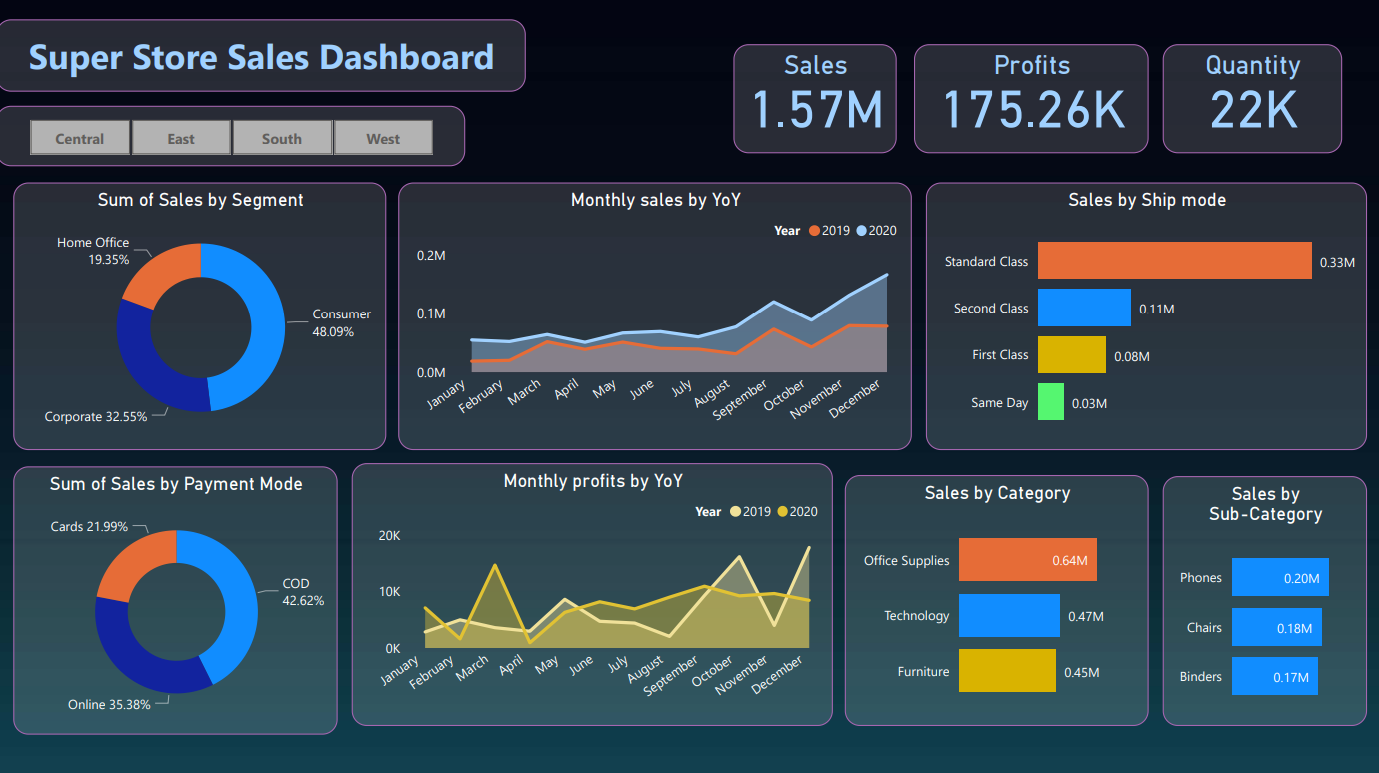

What the dashboard file says about the page in this screenshot:
{"tool":"powerbi","page":{"name":"Page 1","canvas":[1280,720],"ordinal":0},"visuals":[{"type":"clusteredBarChart","title":"Sales by Category","fields":{"Category":["Sheet1.Category"],"Y":["Sum(Sheet1.Sales)"]},"box":[785.2,438.7,281.3,232.1],"z":0},{"type":"clusteredBarChart","title":"Sales by Sub-Category","fields":{"Category":["Sheet1.Sub-Category"],"Y":["Sum(Sheet1.Sales)"]},"box":[1079.2,440.3,189.1,230.5],"z":1000},{"type":"clusteredBarChart","title":"Sales by Ship mode","fields":{"Category":["Sheet1.Ship Mode","Sheet1.Sub-Category"],"Y":["Sum(Sheet1.Sales)"]},"box":[859.9,168.5,408.5,247.9],"z":2000},{"type":"areaChart","title":"Monthly sales by YoY","fields":{"Y":["Sum(Sheet1.Sales)"],"Category":["Sheet1.Order Date.Variation.Date Hierarchy.Month"],"Series":["Sheet1.Order Date.Variation.Date Hierarchy.Year"]},"box":[371.9,168.5,475.2,247.9],"z":3000},{"type":"areaChart","title":"Monthly profits by YoY","fields":{"Category":["Sheet1.Order Date.Variation.Date Hierarchy.Month"],"Series":["Sheet1.Order Date.Variation.Date Hierarchy.Year"],"Y":["Sum(Sheet1.Profit)"]},"box":[329,427.5,445,243.2],"z":4000},{"type":"donutChart","fields":{"Category":["Sheet1.Segment"],"Y":["Sum(Sheet1.Sales)"]},"box":[15.9,168.5,344.9,247.9],"z":5000},{"type":"donutChart","fields":{"Category":["Sheet1.Payment Mode"],"Y":["Sum(Sheet1.Sales)"]},"box":[15.9,430.7,300.4,247.9],"z":6000},{"type":"slicer","fields":{"Values":["Sheet1.Region"]},"box":[0,97,433.9,55.6],"z":7000},{"type":"textbox","box":[0,17.5,489.5,66.8],"z":8000},{"type":"card","title":"Sales","fields":{"Values":["Sum(Sheet1.Sales)"]},"box":[681.9,39.7,151,101.7],"z":9000},{"type":"card","title":"Profits","fields":{"Values":["Sum(Sheet1.Profit)"]},"box":[848.7,39.7,217.7,101.7],"z":10000},{"type":"card","title":"Quantity","fields":{"Values":["Sum(Sheet1.Quantity)"]},"box":[1079.2,39.7,165.3,101.7],"z":11000}]}

Visuals, with their boxes in screenshot pixels (x1, y1, x2, y2), scaled from the page's 1280x720 canvas onto the 1379x773 screenshot:
"Sales by Category" clusteredBarChart: <region>846, 471, 1149, 720</region>
"Sales by Sub-Category" clusteredBarChart: <region>1163, 473, 1366, 720</region>
"Sales by Ship mode" clusteredBarChart: <region>926, 181, 1367, 447</region>
"Monthly sales by YoY" areaChart: <region>401, 181, 913, 447</region>
"Monthly profits by YoY" areaChart: <region>354, 459, 834, 720</region>
donutChart - Sheet1.Segment x Sum(Sheet1.Sales): <region>17, 181, 389, 447</region>
donutChart - Sheet1.Payment Mode x Sum(Sheet1.Sales): <region>17, 462, 341, 729</region>
slicer - Sheet1.Region: <region>0, 104, 467, 164</region>
textbox: <region>0, 19, 527, 91</region>
"Sales" card: <region>735, 43, 897, 152</region>
"Profits" card: <region>914, 43, 1149, 152</region>
"Quantity" card: <region>1163, 43, 1341, 152</region>
